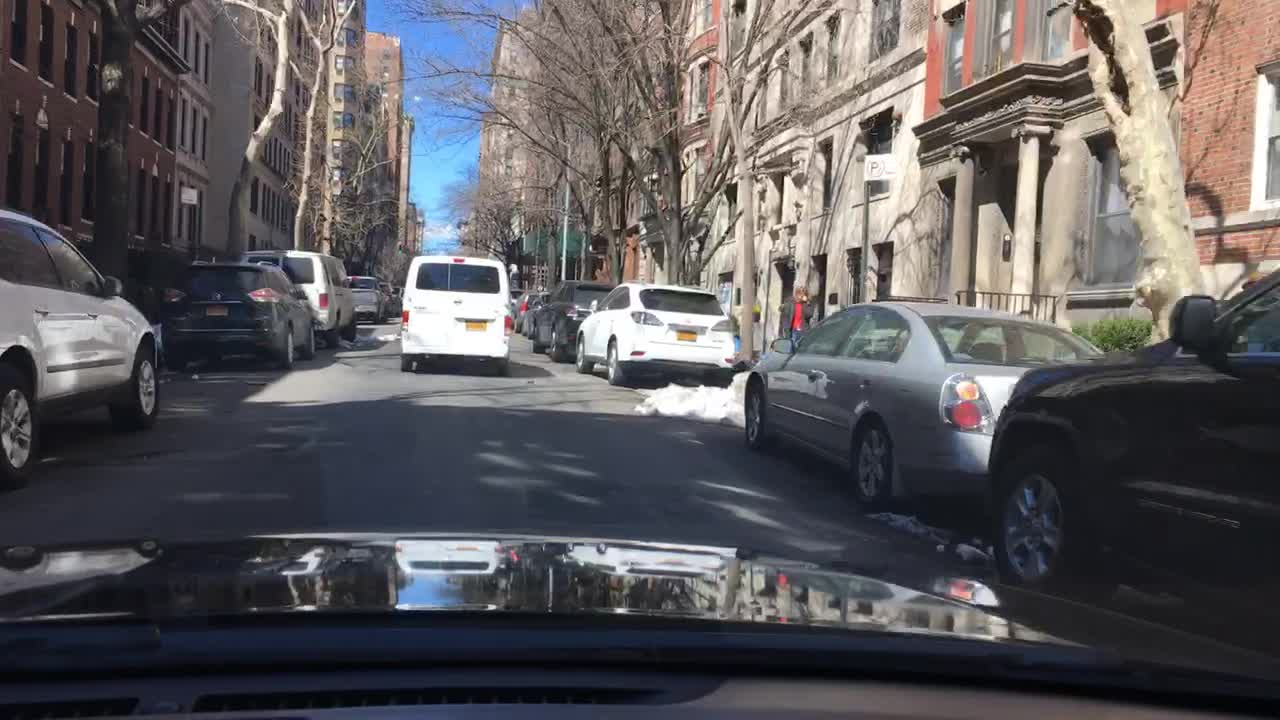car: (978, 266, 1279, 634), (742, 295, 1107, 509), (0, 207, 160, 491), (572, 280, 734, 386), (158, 259, 317, 364), (400, 253, 513, 372), (239, 248, 357, 347), (530, 280, 612, 359), (516, 288, 550, 334), (513, 290, 538, 334), (509, 283, 521, 320), (378, 280, 391, 312), (391, 281, 398, 317)
person: (776, 286, 813, 337)
traffic light: (395, 239, 401, 261)
traffic sign: (862, 151, 897, 182), (179, 182, 200, 208)
truck: (347, 271, 384, 320)
